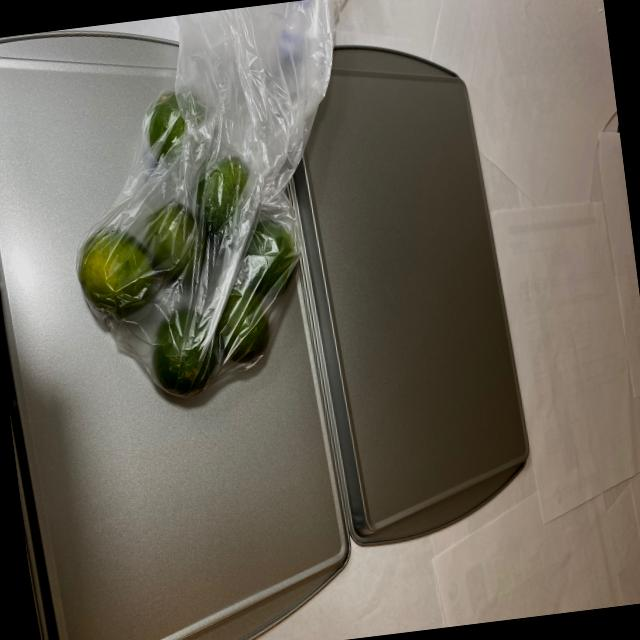lemon: (59, 84, 312, 407)
